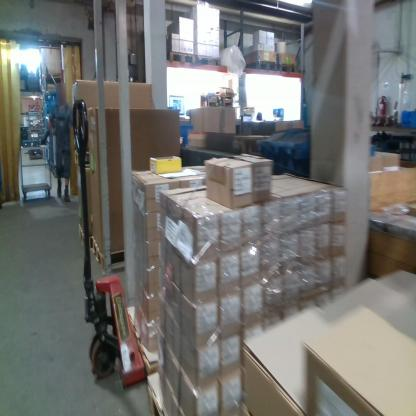pallet: (123, 308, 160, 371), (147, 373, 190, 414), (92, 236, 126, 272), (245, 59, 276, 75), (167, 52, 196, 66), (77, 225, 91, 250), (195, 54, 220, 66), (277, 64, 297, 76)
pallet_truck: (67, 93, 148, 391)
